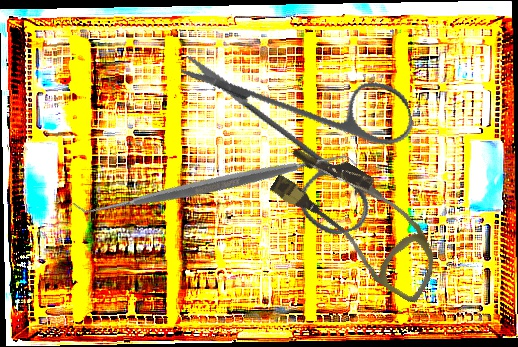Cannula: (258, 134, 460, 306)
Iris Scissors: (177, 1, 438, 264)
Spatula Surgical: (71, 40, 358, 328)
